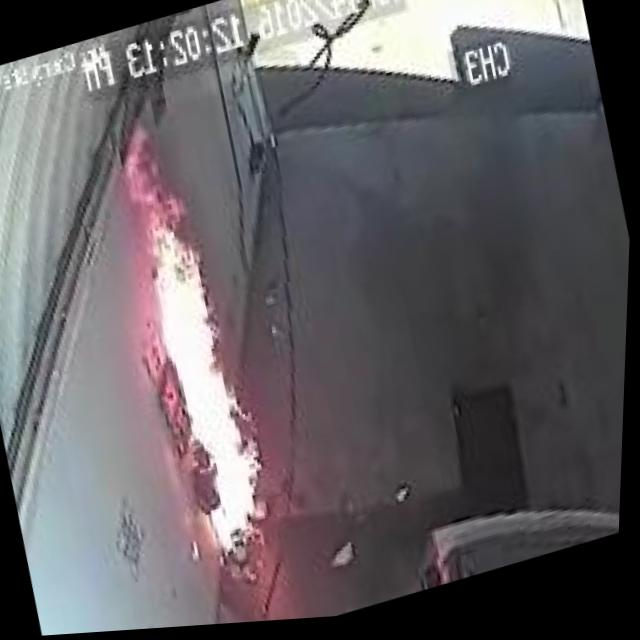fire: (102, 137, 298, 584)
